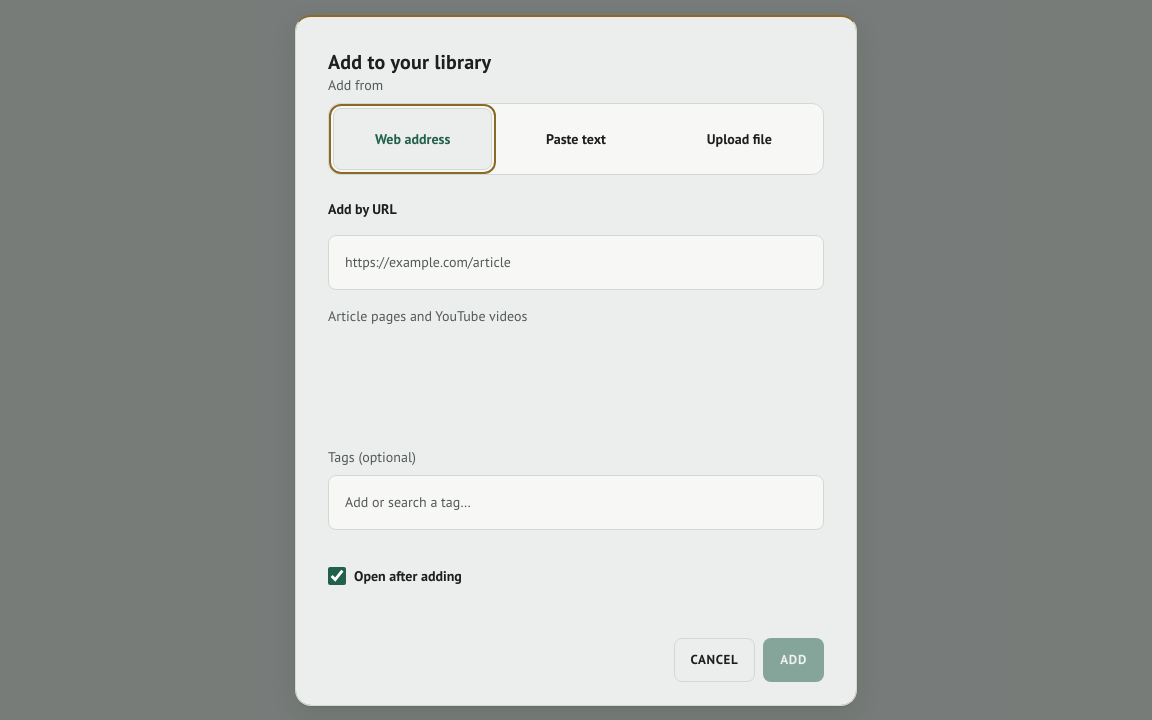
Test: AddDialog tags: the fieldset › suggests most-used existing tags from the host-passed stats (count-free)
Step 1. Click the dropdown labelled "Add or search a tag" → (576, 503), box [328,475,824,530]
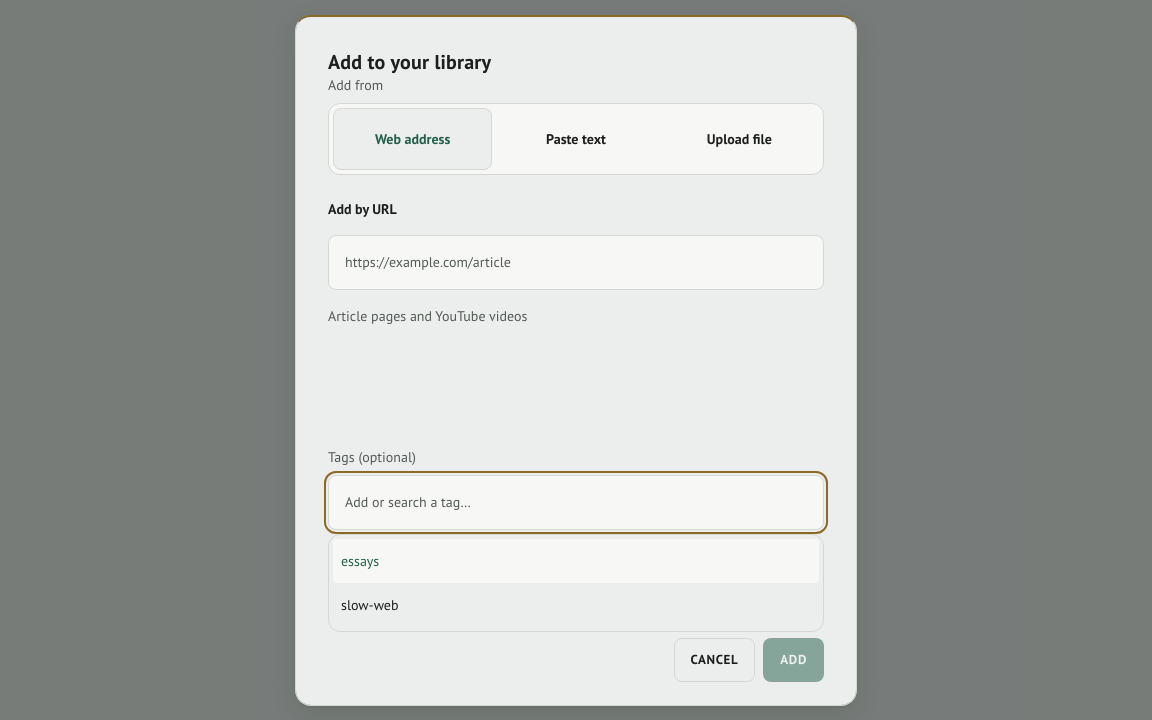
Result: the options read "essays", "slow-web", in this order at [333,539,819,583]; [341,596,398,614]
